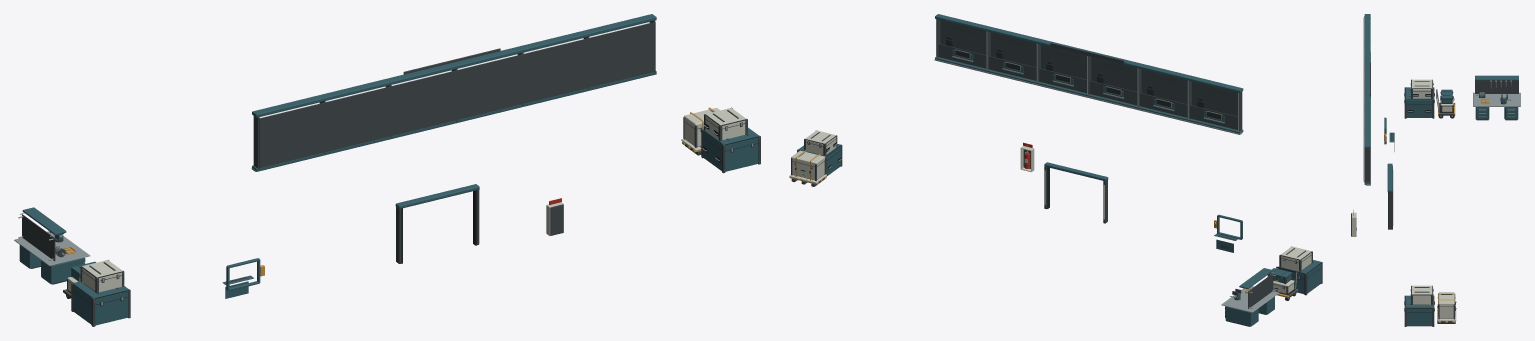
File: station-props.glb
3 renders of one model, left to right at view 1: azimuth 30°, elevation 25°; view 2: azimuth 150°, elevation 25°; view 3: azimuth 270°, elevation 25°, orthographic. The views are drawn at different scales.
Parts seen in each view (by area): view 1: StationProps_DarkSteel, StationProps_Petrol, StationProps_Ivory, StationProps_Rubber, StationProps_Steel; view 2: StationProps_DarkSteel, StationProps_Petrol, StationProps_Ivory, StationProps_Steel, StationProps_Rubber; view 3: StationProps_Petrol, StationProps_DarkSteel, StationProps_Ivory, StationProps_Steel, StationProps_Rubber, StationProps_Ochre.
Boxes of the visible parts, box(x1,y1,x2,y2) form: StationProps_DarkSteel: box(22, 20, 760, 326); StationProps_Petrol: box(19, 14, 758, 325); StationProps_Ivory: box(67, 108, 745, 292); StationProps_Rubber: box(66, 115, 758, 306); StationProps_Steel: box(14, 123, 753, 324); StationProps_DarkSteel: box(791, 19, 1322, 326); StationProps_Petrol: box(798, 14, 1321, 326); StationProps_Ivory: box(789, 130, 1311, 293); StationProps_Steel: box(794, 19, 1299, 312); StationProps_Rubber: box(792, 25, 1321, 317); StationProps_Petrol: box(1364, 14, 1518, 326); StationProps_DarkSteel: box(1351, 16, 1518, 326); StationProps_Ivory: box(1351, 79, 1456, 320); StationProps_Steel: box(1366, 18, 1520, 310); StationProps_Rubber: box(1364, 27, 1517, 312); StationProps_Ochre: box(1384, 82, 1511, 322).
Size of the model in its own units: 40.5 by 11.81 by 13.15.
